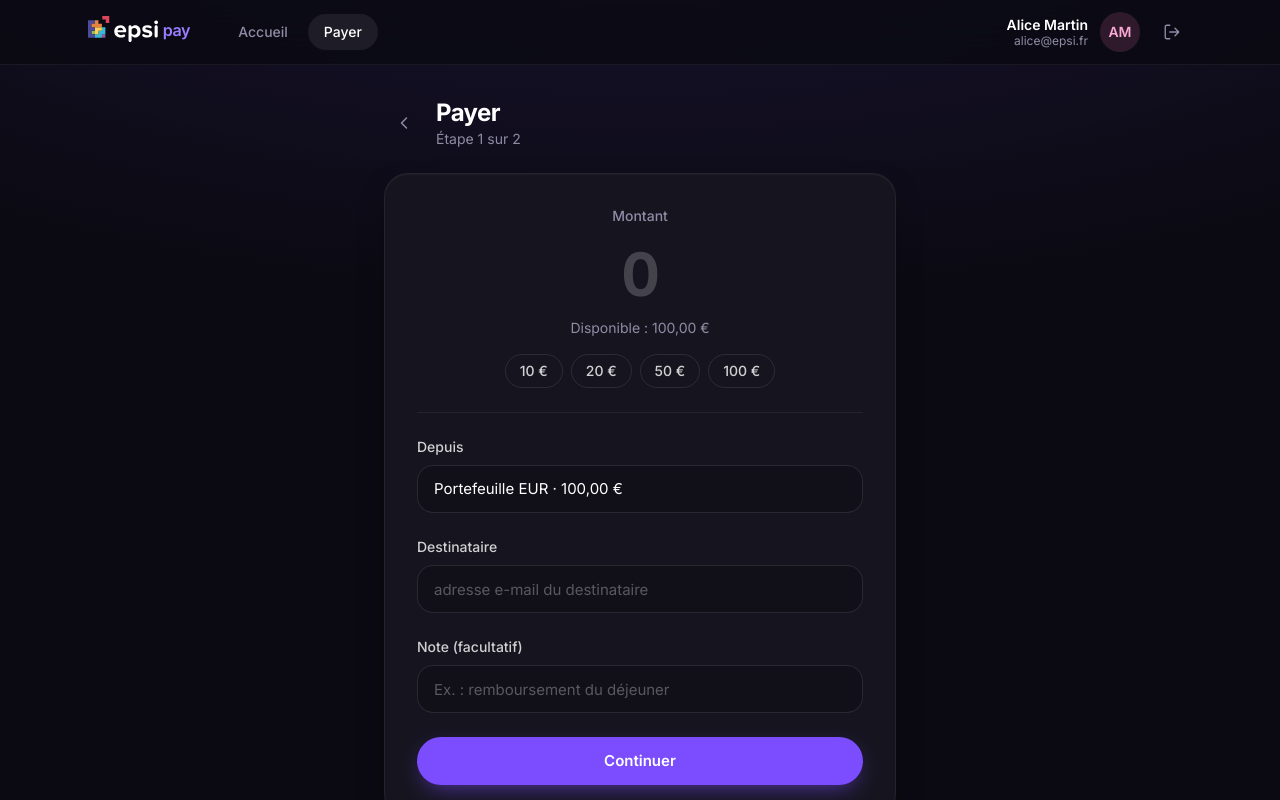
Test: Écrans › Paiement › doit bloquer côté client un montant supérieur au solde
Expected: the text "Disponible : 100,00 €" is shown, [570,319,710,336]
Step 1. Type "150" into the field labelled "Montant" → x=640, y=274, box [417,238,863,310]
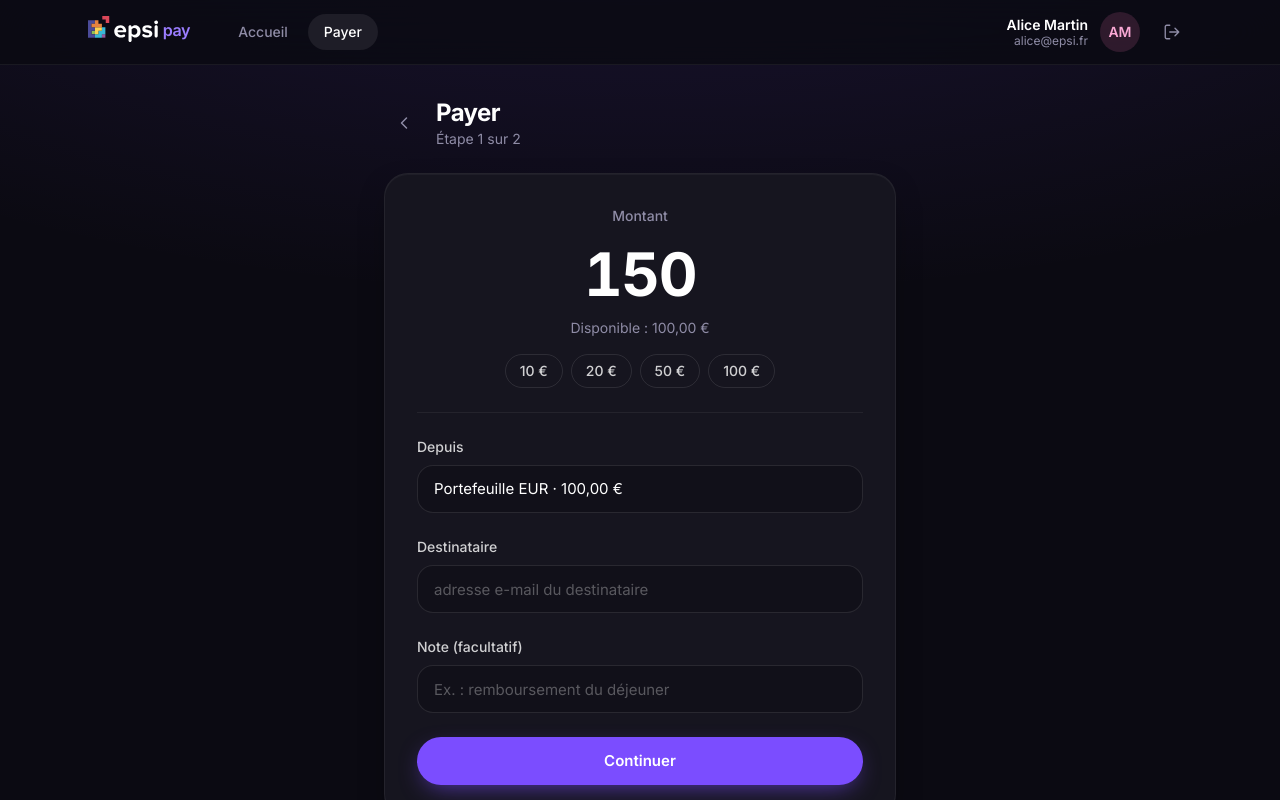
Step 2. Type "bob@epsi.fr" into the field labelled "Destinataire" → x=640, y=589, box [417,565,863,613]
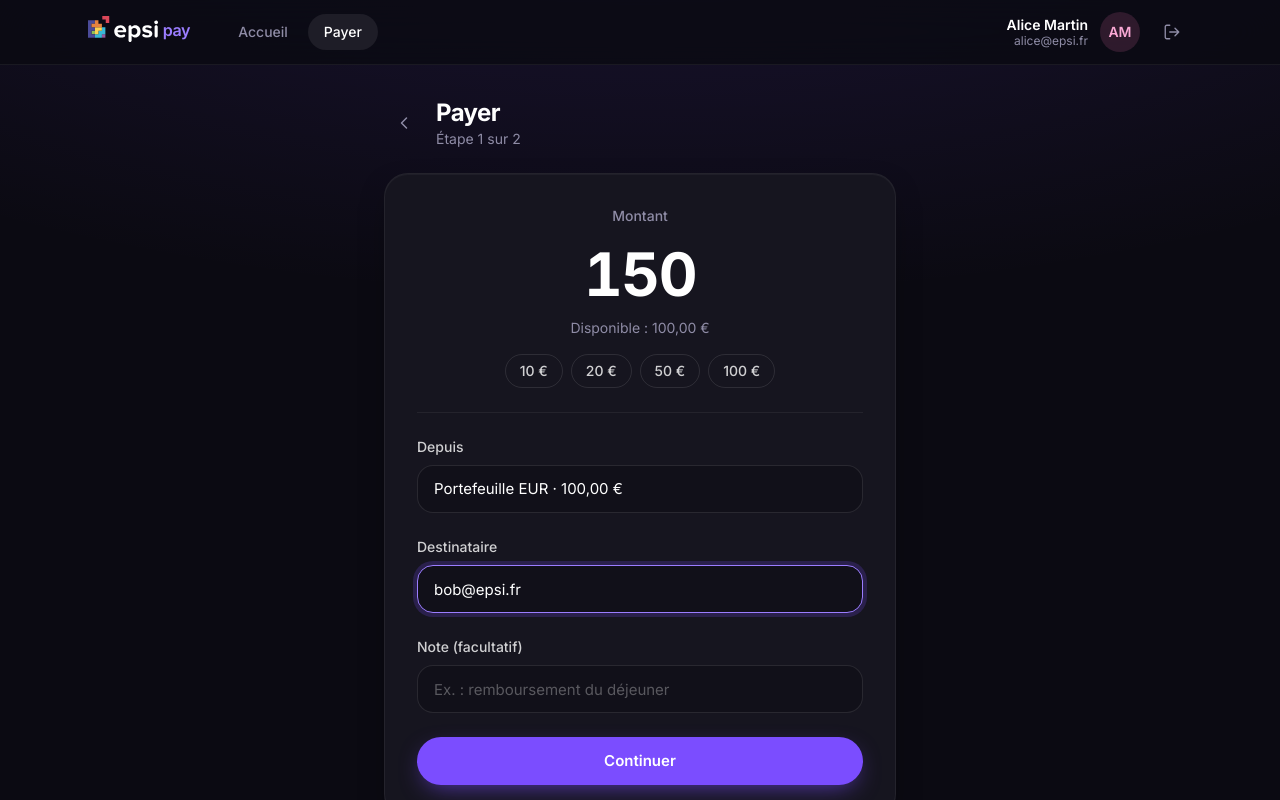
Step 3. Click the button "Continuer" → x=640, y=761, box [417,737,863,785]
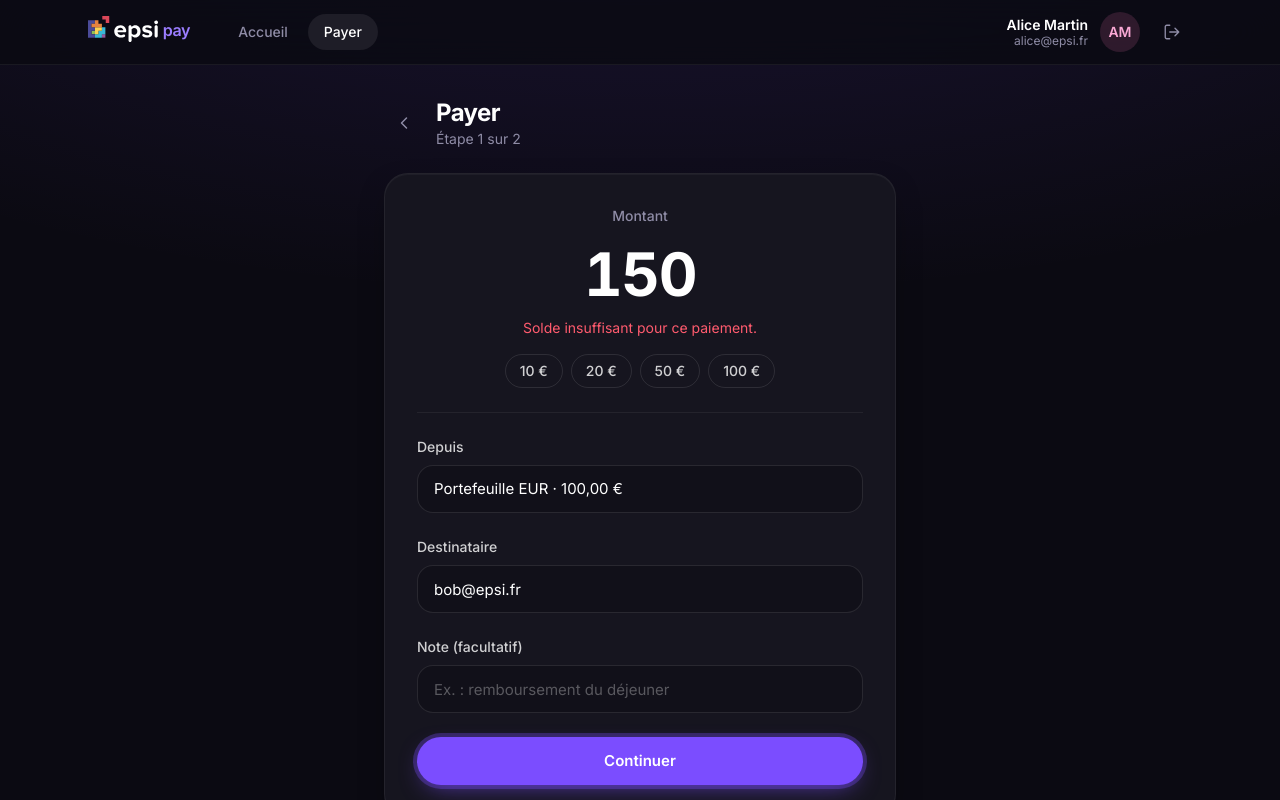
Expected: the text "Solde insuffisant pour ce paiement." is shown, [523,319,757,336]
